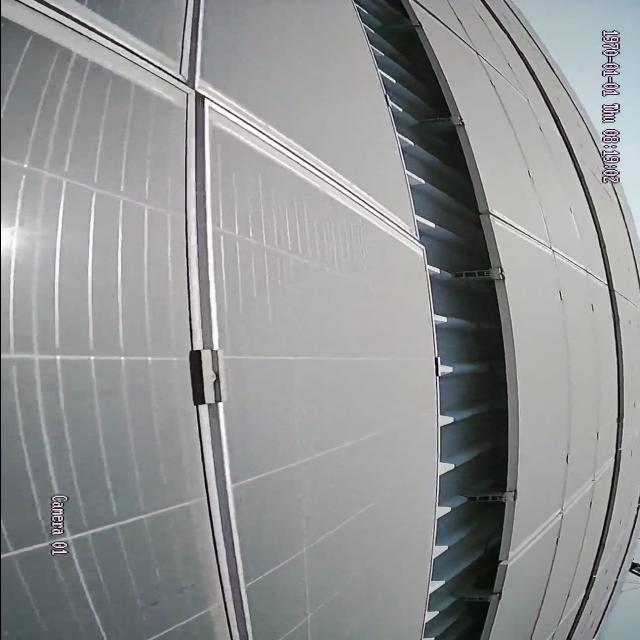interior panel: (3, 0, 407, 632), (513, 459, 609, 567), (501, 216, 594, 277)
outher panel: (351, 0, 520, 636)
